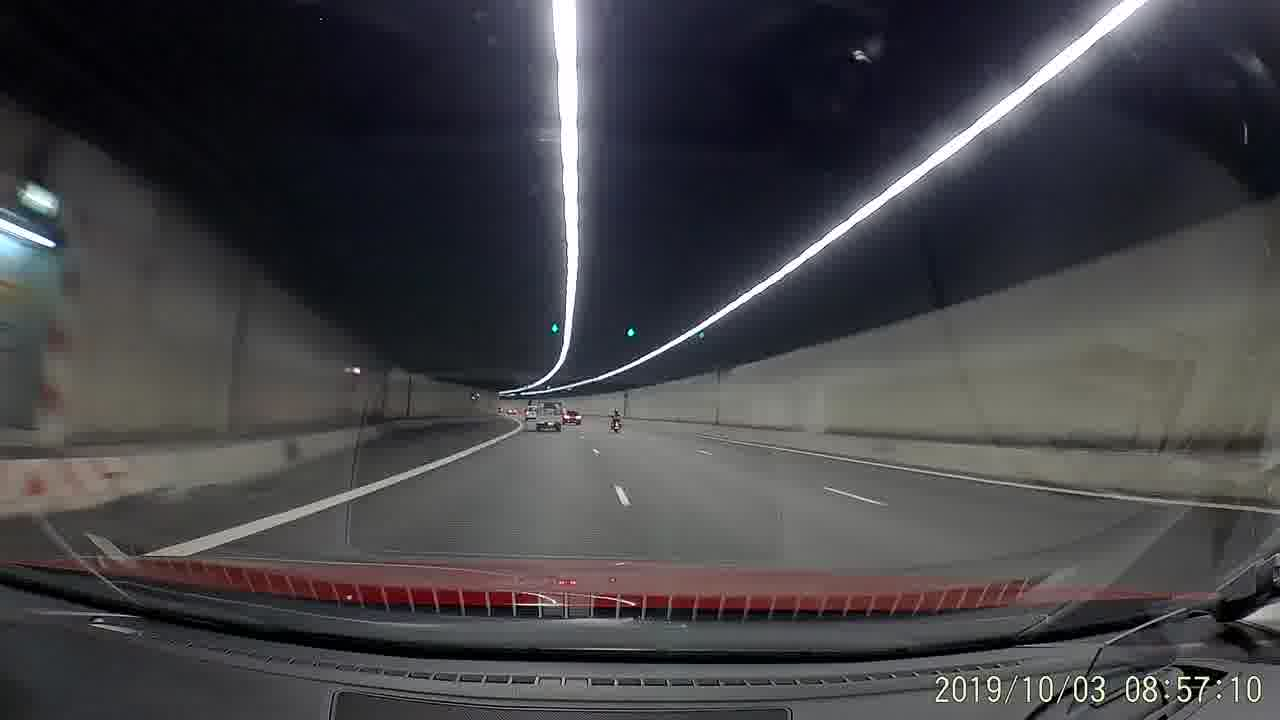car: (562, 409, 583, 427)
